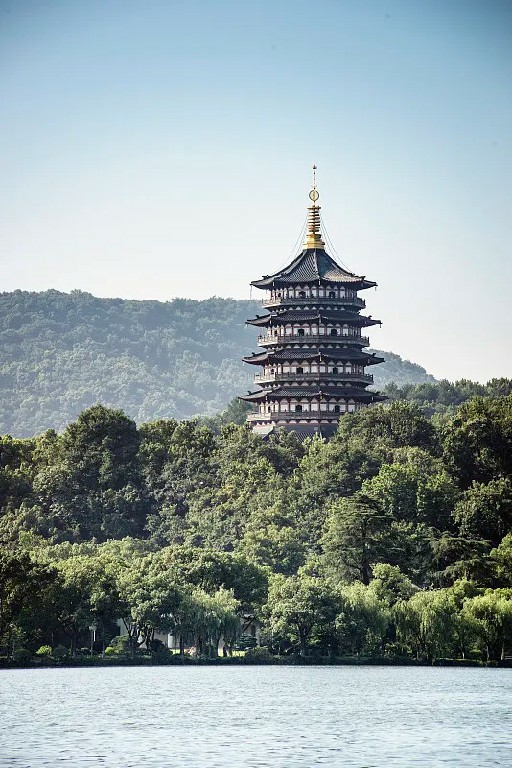Leifeng: (246, 163, 391, 444)
